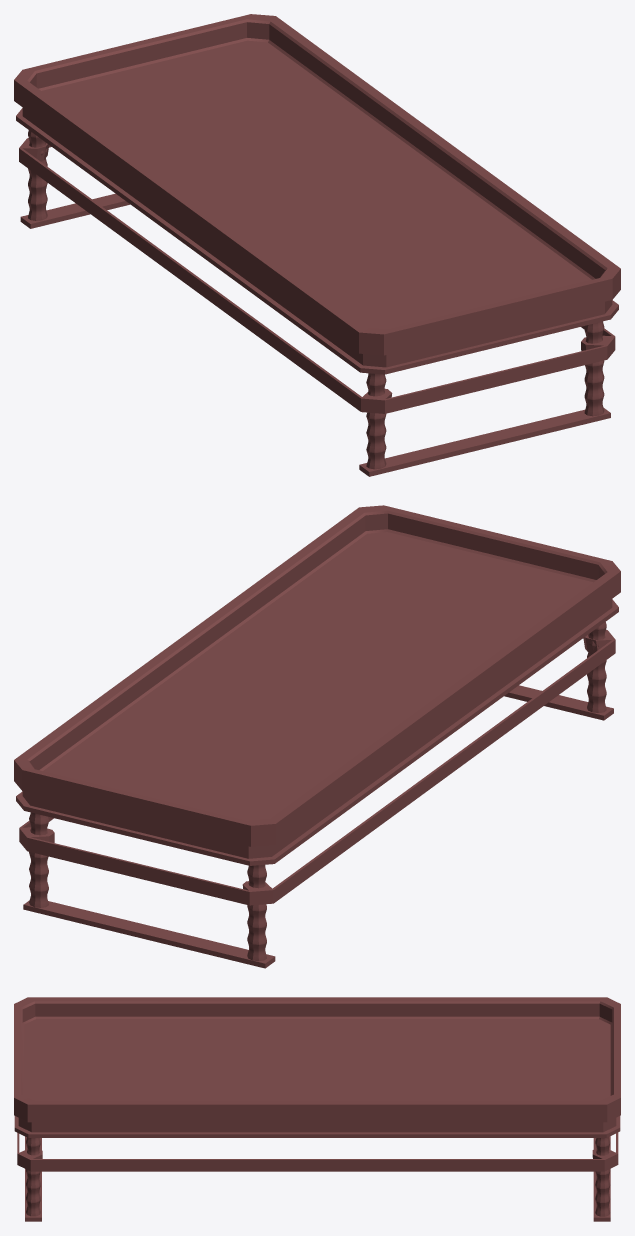
The model's file is Longtable.fbx.
3 views of the same model, one above another, from view 1: azimuth 30°, elevation 25°; view 2: azimuth 150°, elevation 25°; view 3: azimuth 270°, elevation 25° (orthographic). The views are drawn at different scales.
Visible parts, largest first — view 1: Longtable_L, Longtable_R; view 2: Longtable_R, Longtable_L; view 3: Longtable_L, Longtable_R.
Part boxes in pixels (x1,y1,x2,y2): Longtable_L: (186, 142, 620, 476); Longtable_R: (14, 14, 447, 286); Longtable_R: (14, 634, 448, 968); Longtable_L: (186, 505, 620, 777); Longtable_L: (14, 997, 317, 1221); Longtable_R: (318, 997, 620, 1221).
Bounding box in the file's own units: 202 × 107 × 483.
